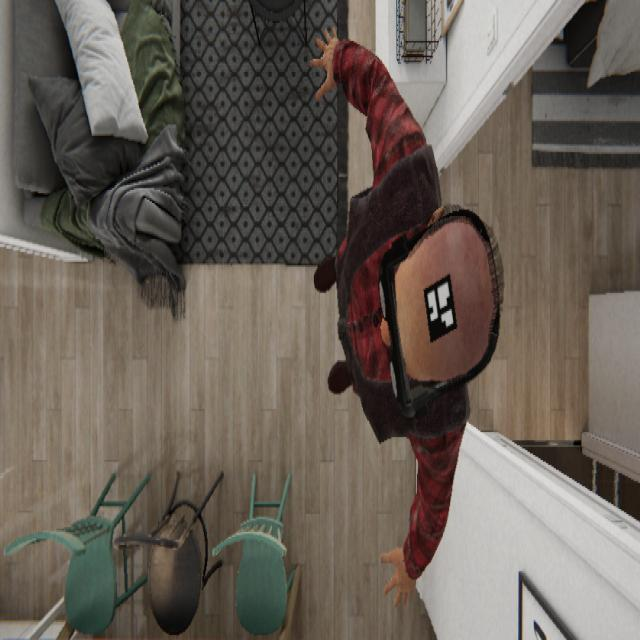AruCO: (422, 270, 458, 344)
Human: (308, 24, 504, 609)
